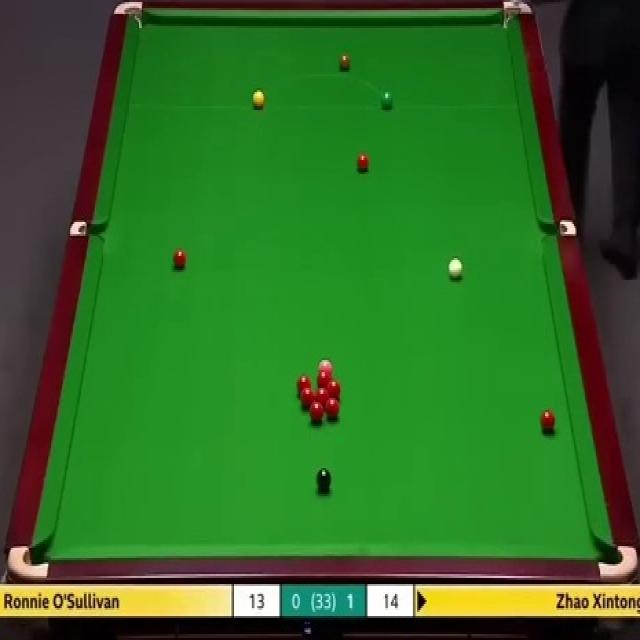black-ball: (315, 466, 331, 494)
brown-ball: (338, 52, 352, 72)
green-ball: (379, 91, 395, 112)
pink-ball: (317, 358, 333, 370)
red-ball: (540, 409, 556, 435), (325, 398, 340, 422), (310, 401, 324, 423), (172, 250, 186, 272), (296, 375, 311, 395), (327, 379, 339, 401), (356, 152, 369, 172), (314, 386, 329, 403), (317, 370, 332, 387), (301, 389, 314, 407), (251, 518, 252, 518)
white-ball: (446, 255, 464, 281)
yellow-ball: (252, 90, 265, 110)
